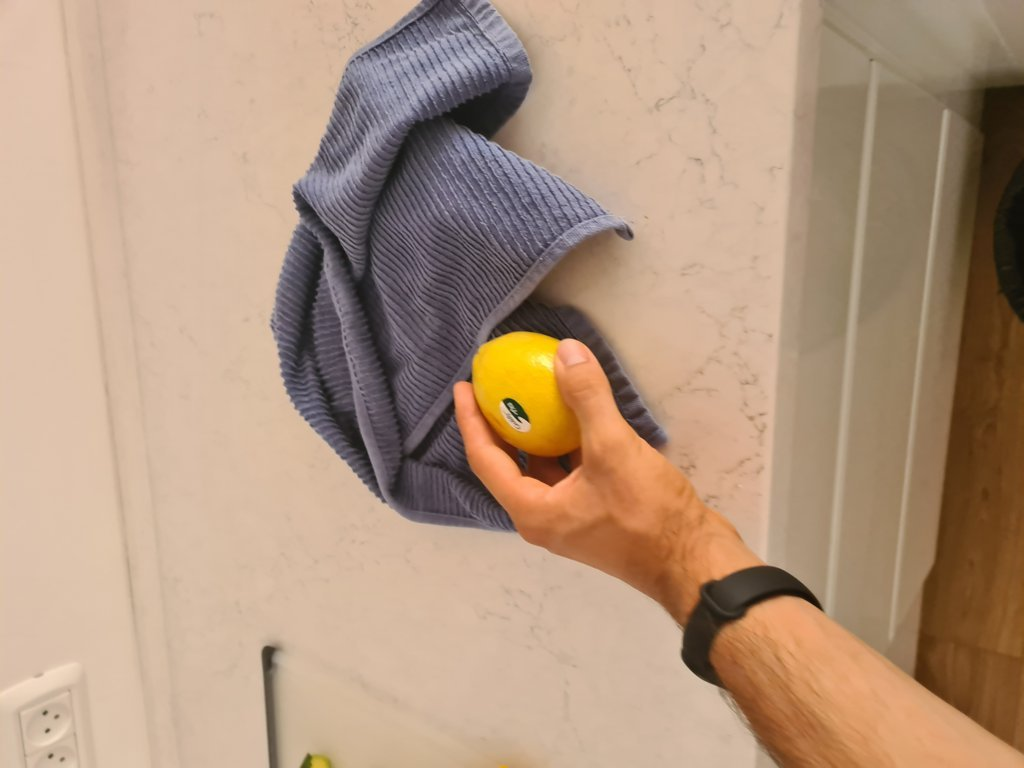lemon: (473, 328, 599, 461)
